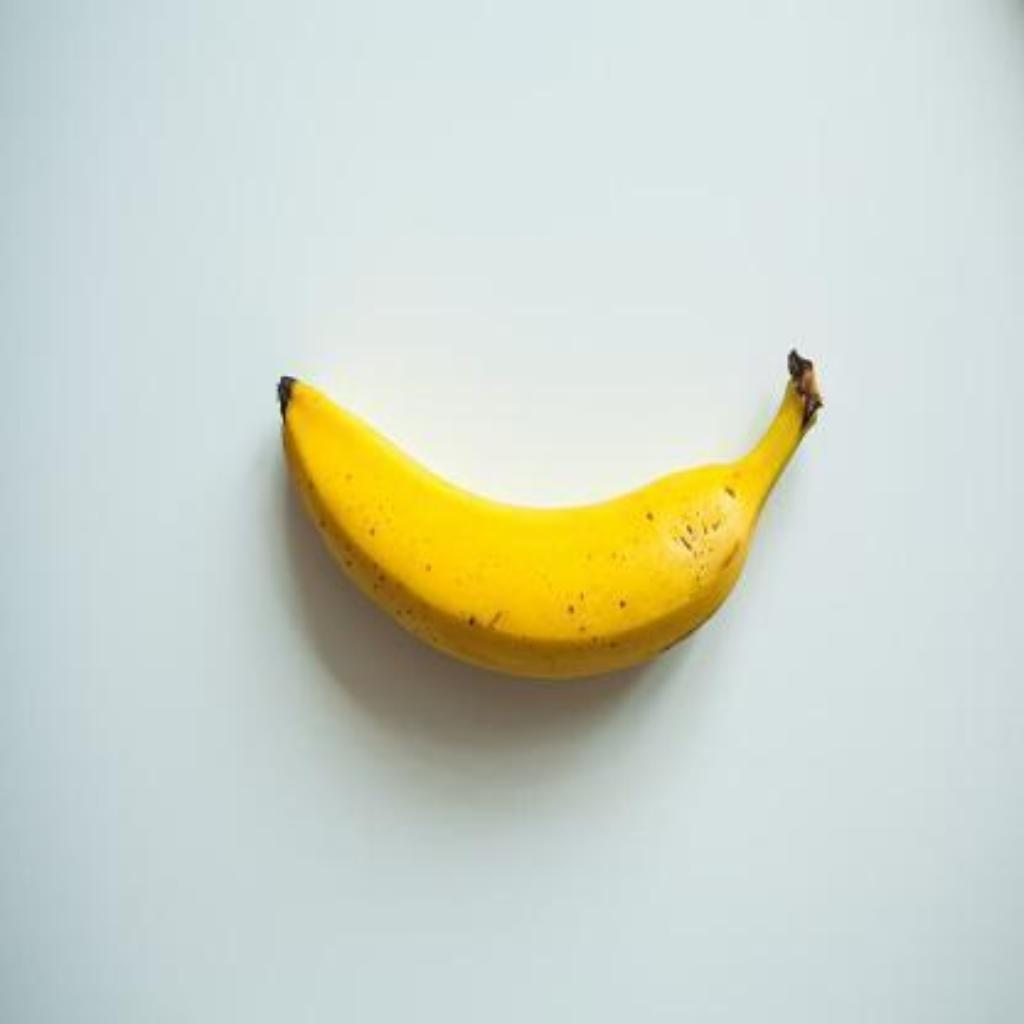banana: (276, 354, 825, 682)
